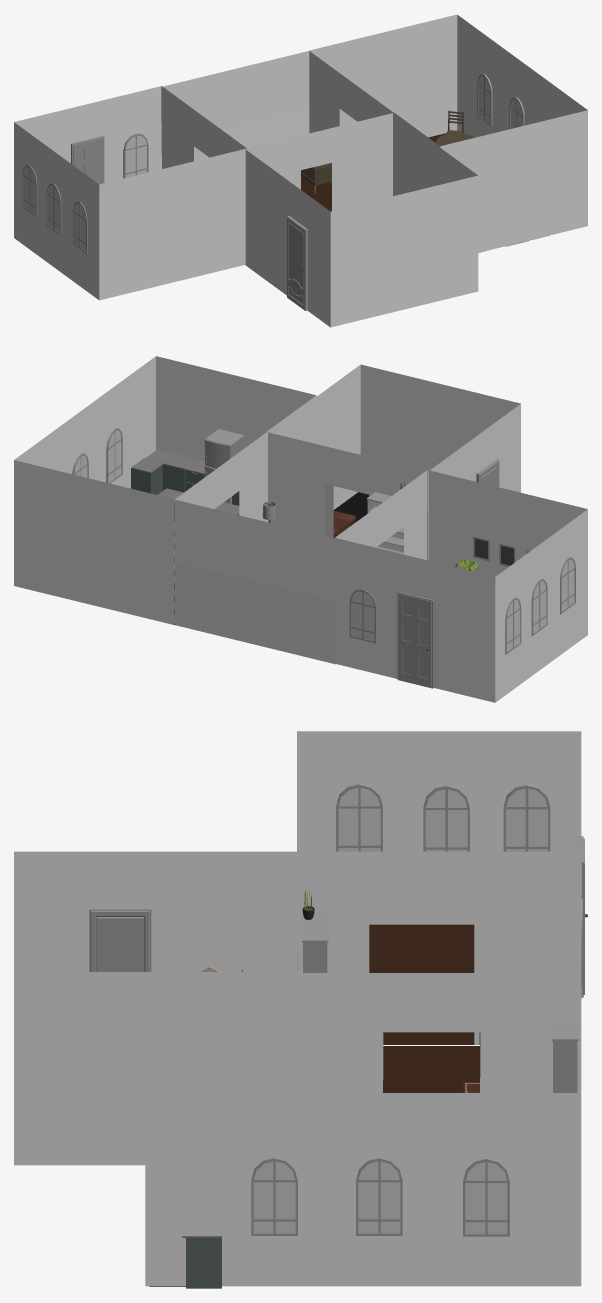
The model's file is MainApartment.dae.
The picture shows the model from 3 angles, top to bottom: view 1: azimuth 30°, elevation 25°; view 2: azimuth 150°, elevation 25°; view 3: azimuth 270°, elevation 25°; orthographic projection. The views are drawn at different scales.
Visible parts, largest first — view 1: Layout, Door_9_Cube.000, Door_1_Cube, Window_Round3_Cylinder.003, Window_Round3_Cylinder.006, Window_Round3_Cylinder.001, Window_Round3_Cylinder.002, Window_Round3_Cylinder.044, Drawer_1_Cube.051, Window_Round3_Cylinder.005; view 2: Layout, Door_1_Cube, Kitchen_1Drawers_Cube.004, Window_Round3_Cylinder.003, Kitchen_3Drawers_Cube.001, Window_Round3_Cylinder.004, Window_Round3_Cylinder.001, Window_Round3_Cylinder.002, Window_Round3_Cylinder.044, Bookshelf_Cube.021, Door_9_Cube.000; view 3: Layout, Door_9_Cube.000, Window_Round3_Cylinder.006, Window_Round3_Cylinder.004, Window_Round3_Cylinder.005, Window_Round3_Cylinder.002, Window_Round3_Cylinder.044, Window_Round3_Cylinder.001, Kitchen_3Drawers_Cube.001, Shelf_2_Cube.093, Bookshelf_Cube.021.
Part boxes in pixels (x1=…): Layout: x1=14, y1=14, x2=587, y2=327; Door_9_Cube.000: x1=287, y1=216, x2=307, y2=310; Door_1_Cube: x1=71, y1=135, x2=104, y2=184; Window_Round3_Cylinder.003: x1=123, y1=133, x2=148, y2=178; Window_Round3_Cylinder.006: x1=477, y1=74, x2=492, y2=126; Window_Round3_Cylinder.001: x1=46, y1=183, x2=61, y2=235; Window_Round3_Cylinder.002: x1=22, y1=165, x2=37, y2=217; Window_Round3_Cylinder.044: x1=73, y1=201, x2=87, y2=253; Drawer_1_Cube.051: x1=301, y1=162, x2=331, y2=194; Window_Round3_Cylinder.005: x1=509, y1=97, x2=524, y2=129; Layout: x1=14, y1=356, x2=587, y2=702; Door_1_Cube: x1=398, y1=592, x2=433, y2=688; Kitchen_1Drawers_Cube.004: x1=144, y1=429, x2=244, y2=505; Window_Round3_Cylinder.003: x1=349, y1=589, x2=376, y2=643; Kitchen_3Drawers_Cube.001: x1=131, y1=458, x2=162, y2=494; Window_Round3_Cylinder.004: x1=106, y1=428, x2=122, y2=483; Window_Round3_Cylinder.001: x1=531, y1=579, x2=547, y2=636; Window_Round3_Cylinder.002: x1=505, y1=597, x2=521, y2=654; Window_Round3_Cylinder.044: x1=560, y1=557, x2=575, y2=614; Bookshelf_Cube.021: x1=366, y1=492, x2=403, y2=591; Door_9_Cube.000: x1=476, y1=459, x2=499, y2=487; Layout: x1=14, y1=731, x2=581, y2=1286; Door_9_Cube.000: x1=89, y1=909, x2=151, y2=971; Window_Round3_Cylinder.006: x1=463, y1=1158, x2=509, y2=1236; Window_Round3_Cylinder.004: x1=251, y1=1158, x2=297, y2=1235; Window_Round3_Cylinder.005: x1=356, y1=1158, x2=402, y2=1235; Window_Round3_Cylinder.002: x1=503, y1=784, x2=550, y2=851; Window_Round3_Cylinder.044: x1=336, y1=783, x2=382, y2=851; Window_Round3_Cylinder.001: x1=423, y1=785, x2=469, y2=851; Kitchen_3Drawers_Cube.001: x1=182, y1=1236, x2=221, y2=1288; Shelf_2_Cube.093: x1=551, y1=1022, x2=578, y2=1092; Bookshelf_Cube.021: x1=301, y1=906, x2=328, y2=972.
Size of the model in its own units: 24.08 by 16.14 by 6.12.
